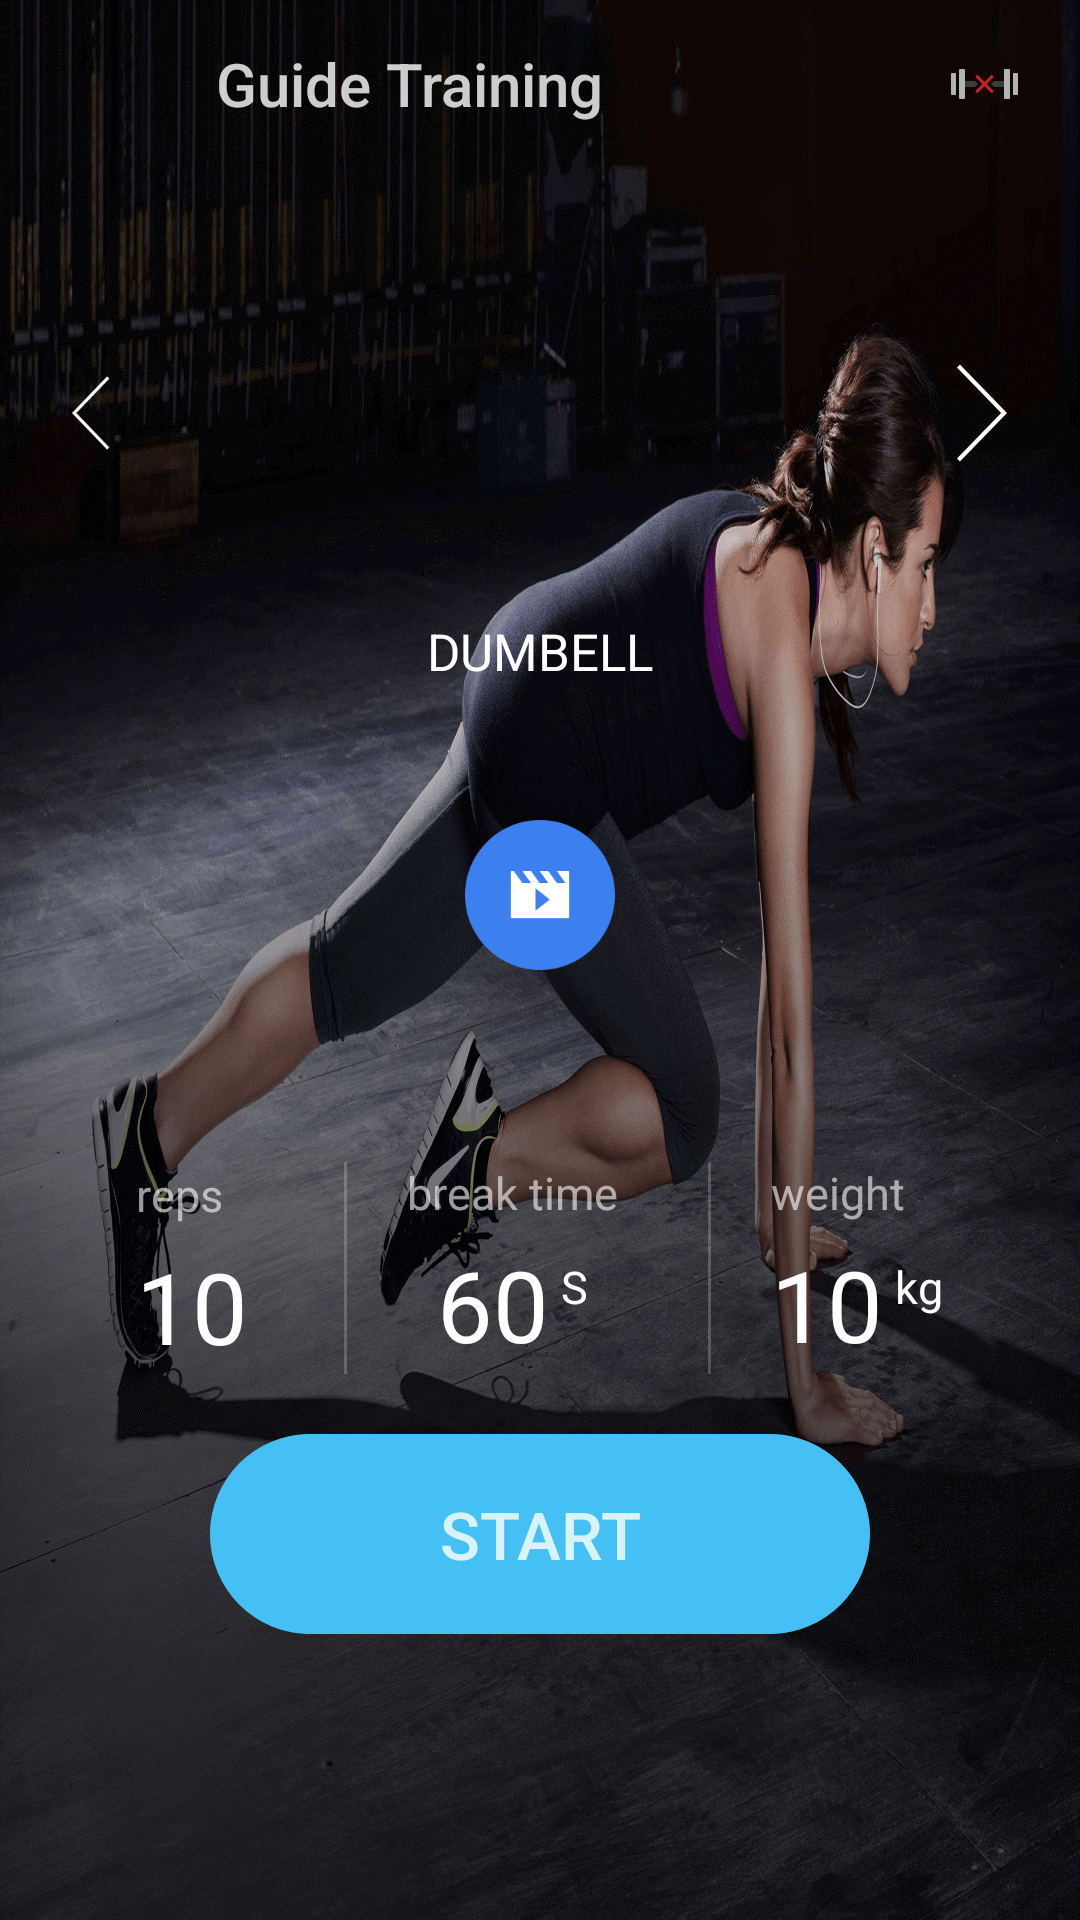

Where icons sit on this 1080*1920 app screen, as [x1=x1, y1=y1, x2=x2, y2=y2]:
title connect no: [x1=951, y1=69, x2=1018, y2=99]
workout arrow: [x1=957, y1=364, x2=1007, y2=462], [x1=69, y1=376, x2=119, y2=450]
